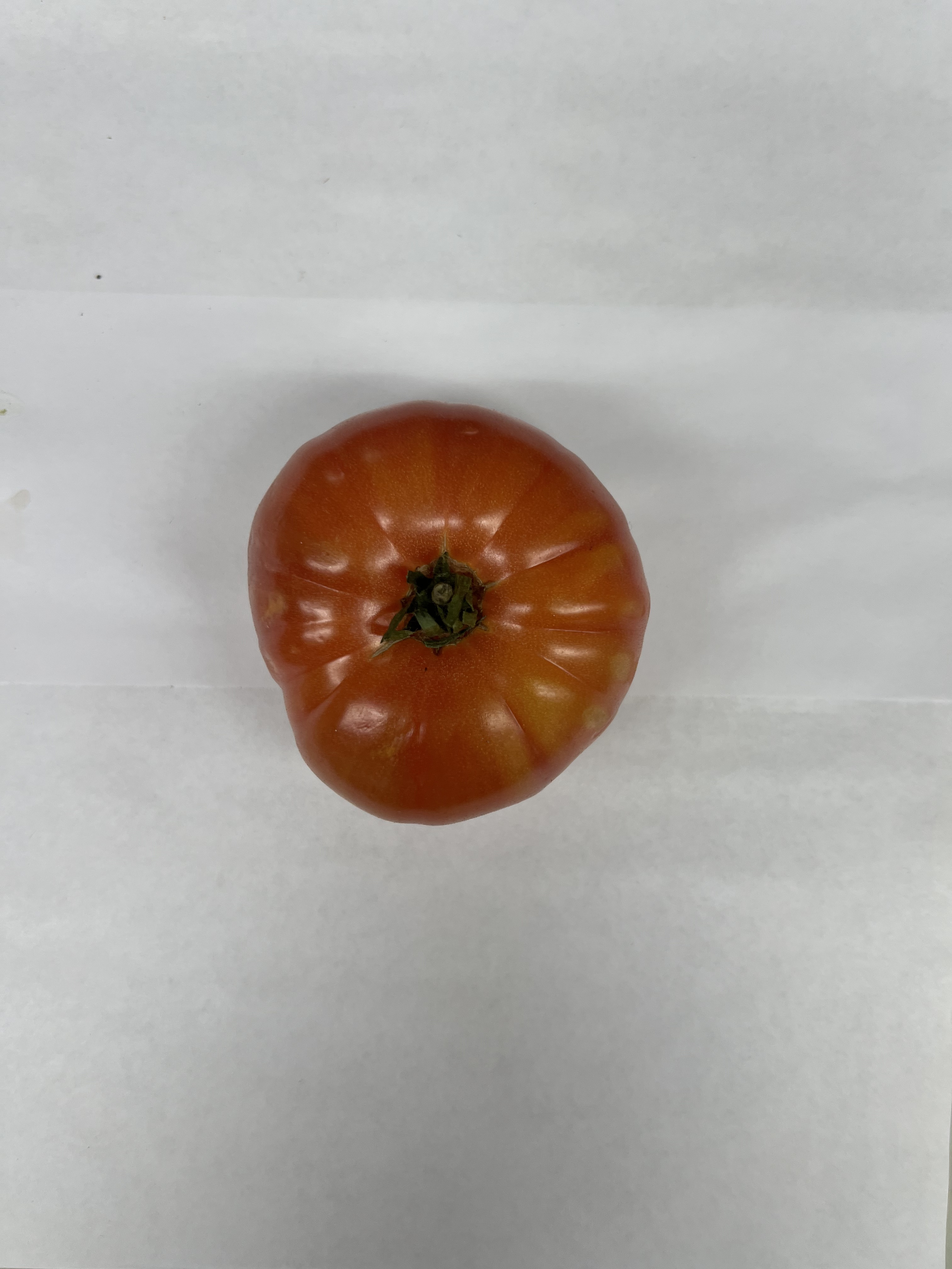produce: (241, 392, 654, 831)
